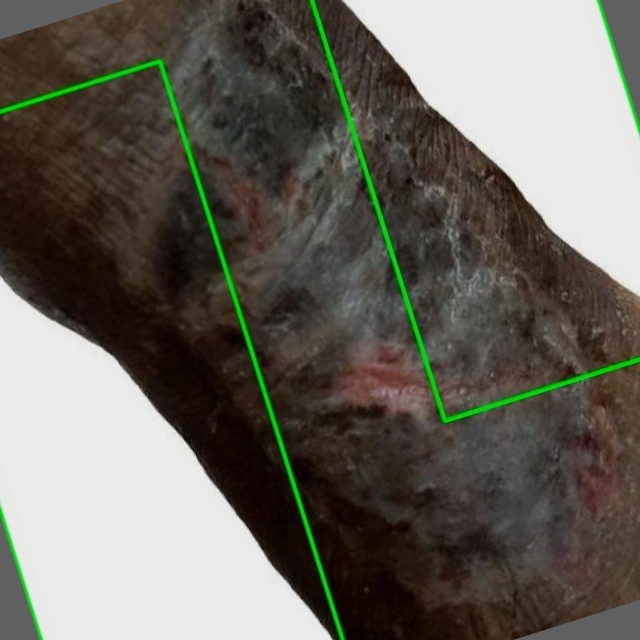Eczema: (0, 61, 342, 639), (312, 0, 639, 420)
